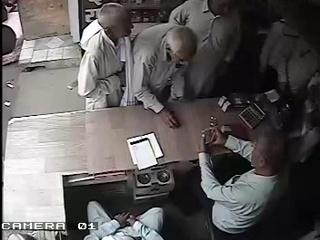Normal: (198, 125, 290, 240), (121, 23, 198, 128), (173, 0, 243, 101), (258, 1, 320, 97), (84, 200, 166, 240)
shoplifting: (77, 2, 134, 111)
